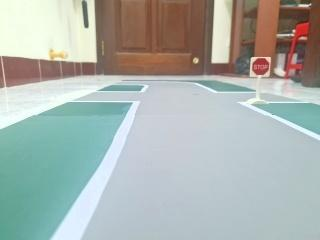stop: (245, 52, 275, 77)
